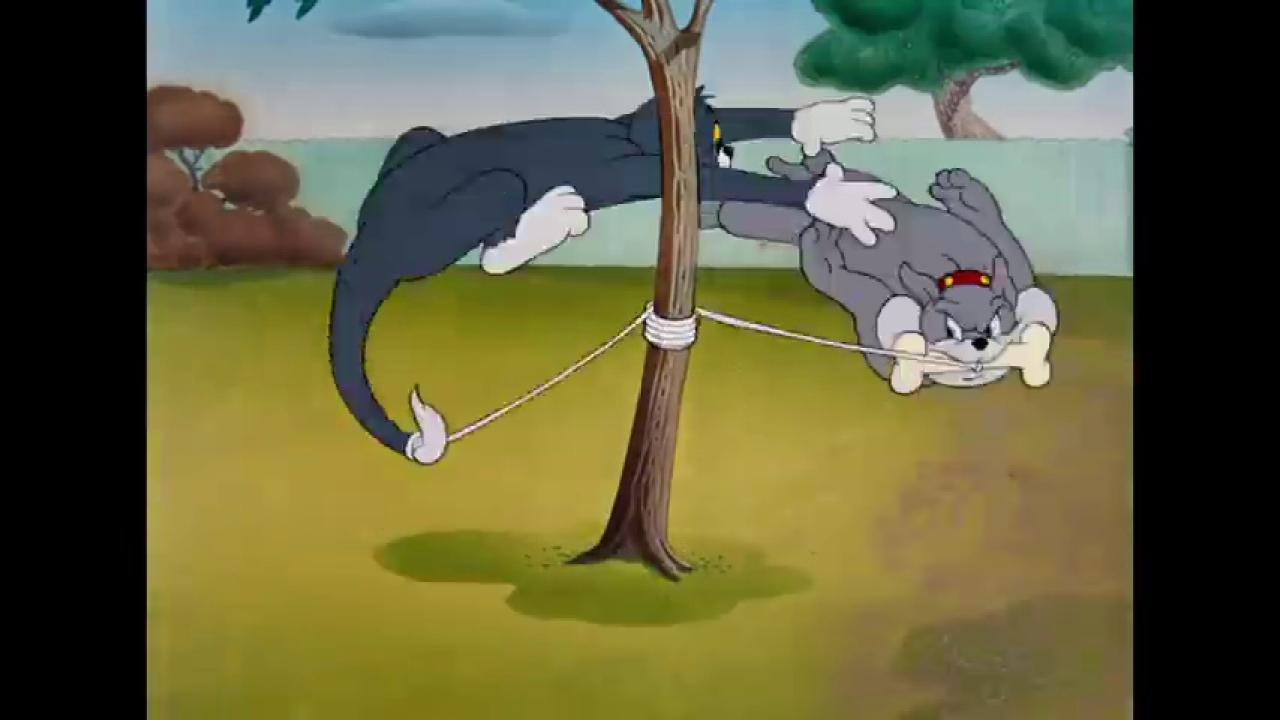Tom: (327, 83, 898, 466)
